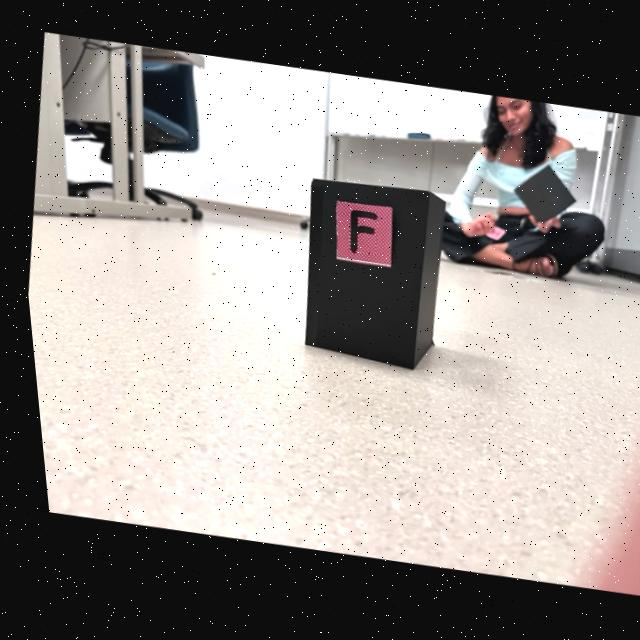F: (345, 213, 374, 253)
